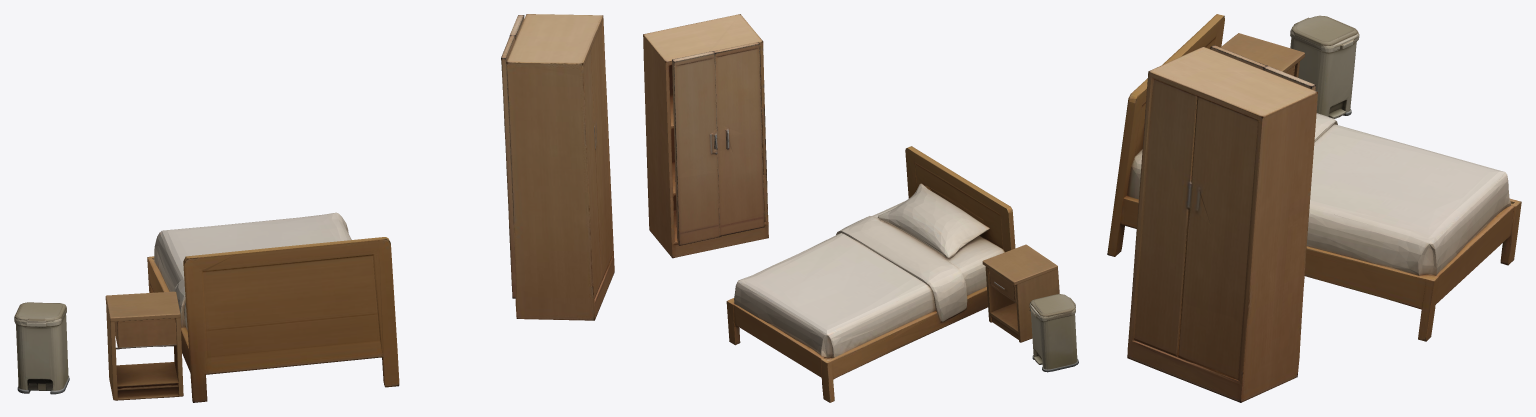
The model's file is figure6-1.glb.
3 views of the same model, side by side, from view 1: azimuth 30°, elevation 25°; view 2: azimuth 150°, elevation 25°; view 3: azimuth 270°, elevation 25° (orthographic). The views are drawn at different scales.
Visible parts, largest first — view 1: obj_1_part_0, obj_0_part_0, obj_2_part_0, obj_3_part_0, obj_2_part_1, obj_0_part_1, obj_3_part_1; view 2: obj_1_part_0, obj_0_part_0, obj_0_part_1, obj_0_part_2, obj_2_part_0, obj_3_part_0, obj_3_part_1, obj_2_part_1; view 3: obj_0_part_0, obj_1_part_0, obj_3_part_0, obj_2_part_0, obj_3_part_1.
Boxes of the visible parts, x1,y1,x2,y2 form: obj_1_part_0: (147, 212, 399, 402); obj_0_part_0: (506, 14, 614, 320); obj_2_part_0: (105, 291, 183, 400); obj_3_part_0: (14, 307, 69, 394); obj_2_part_1: (114, 318, 176, 347); obj_0_part_1: (501, 35, 515, 298); obj_3_part_1: (14, 302, 66, 322); obj_1_part_0: (726, 146, 1015, 402); obj_0_part_0: (643, 14, 768, 258); obj_0_part_1: (713, 42, 764, 236); obj_0_part_2: (672, 51, 720, 245); obj_2_part_0: (982, 244, 1059, 342); obj_3_part_0: (1029, 303, 1078, 372); obj_3_part_1: (1029, 294, 1075, 320); obj_2_part_1: (988, 268, 1016, 302); obj_0_part_0: (1127, 46, 1317, 402); obj_1_part_0: (1107, 14, 1521, 341); obj_3_part_0: (1290, 29, 1359, 118); obj_2_part_0: (1221, 33, 1304, 77); obj_3_part_1: (1291, 15, 1357, 50).
Bounding box in the file's own units: 1.66 × 0.8397 × 0.9289.
8 materials, 8 textured.
